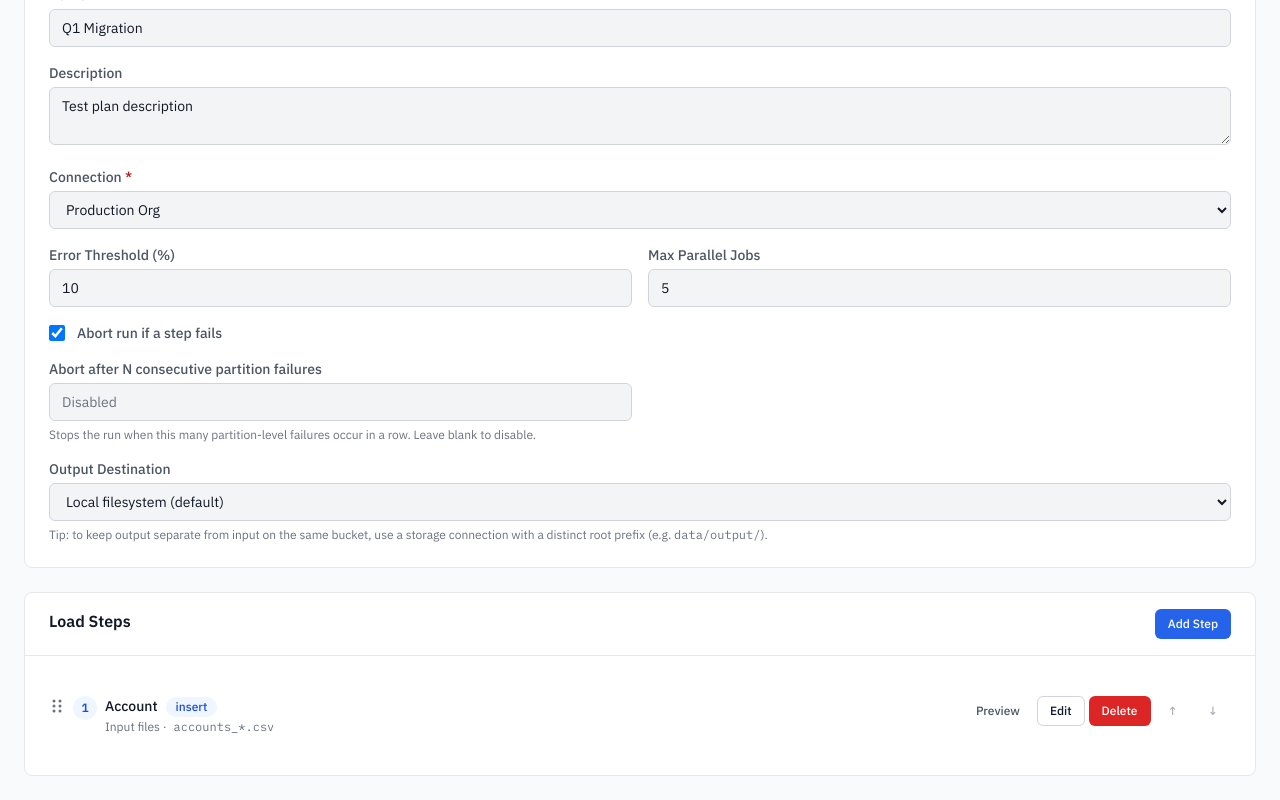
Test: PlanEditor › opens the edit modal pre-filled with step data
(page scrolled)
Expected: the text "Account" is shown, [105,697,158,715]
The last Edit button in the list is for the step (plan Save Changes is different)
Click the button "Edit" at (1061, 711), box [1037,696,1085,726]
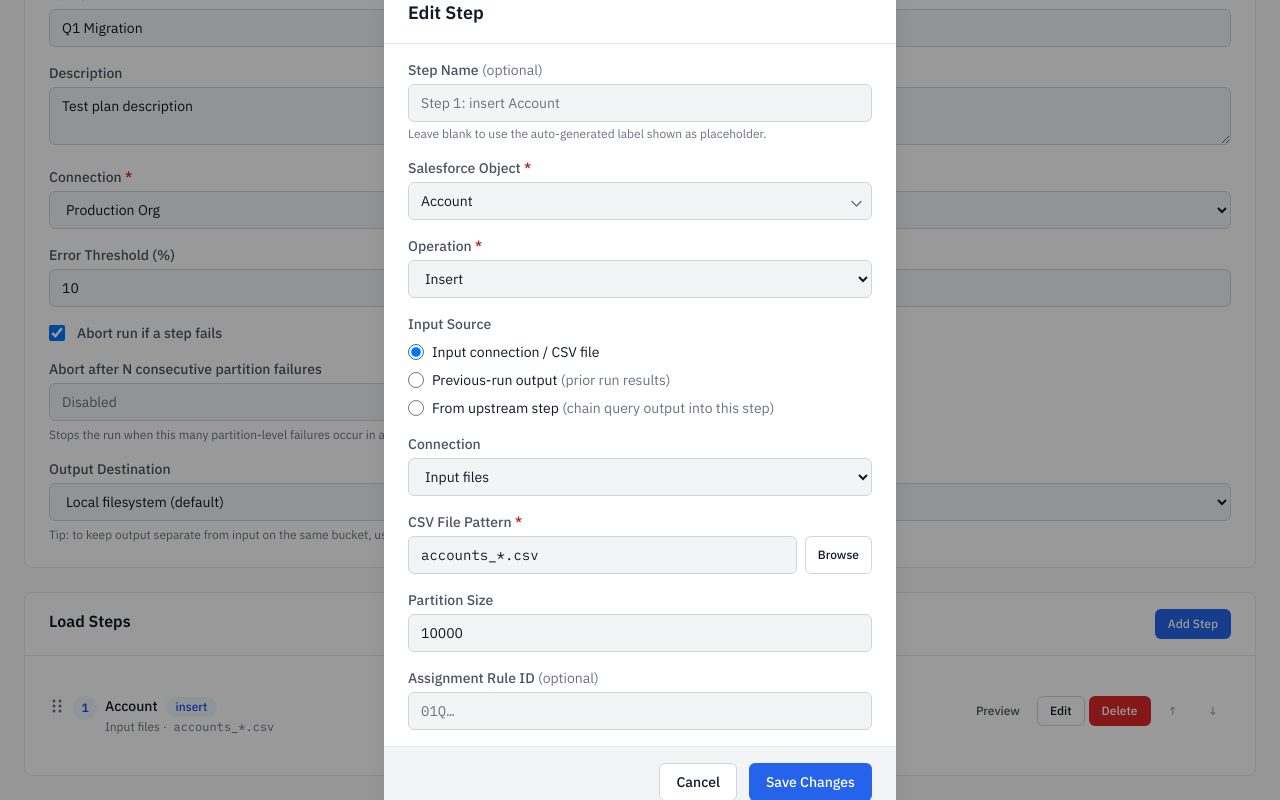
Result: the heading "Edit Step" is shown at [408,1,484,24]
Result: the field showing "Account" is shown at [408,182,872,220]
Result: the field showing "accounts_*.csv" is shown at [408,536,797,574]
